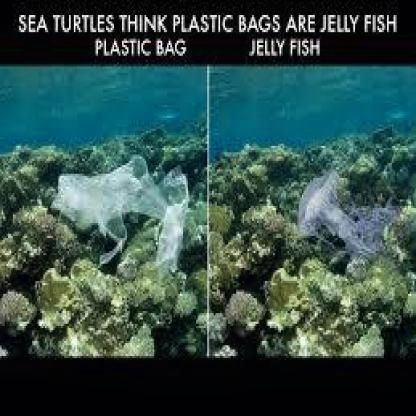pbag: (53, 154, 191, 283)
